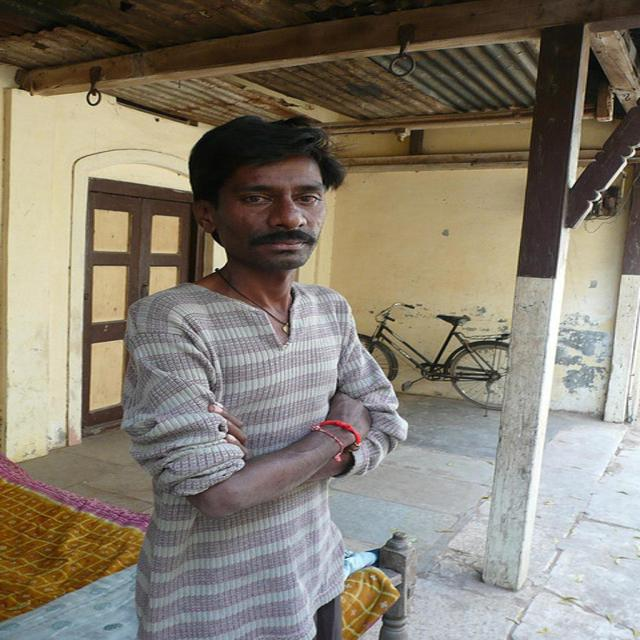Face: (181, 115, 341, 294)
